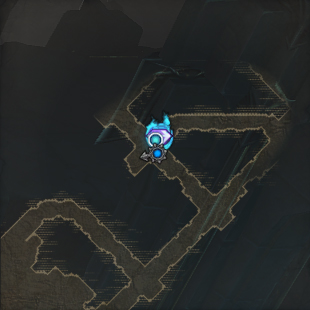Urushi: (146, 111, 174, 154)
